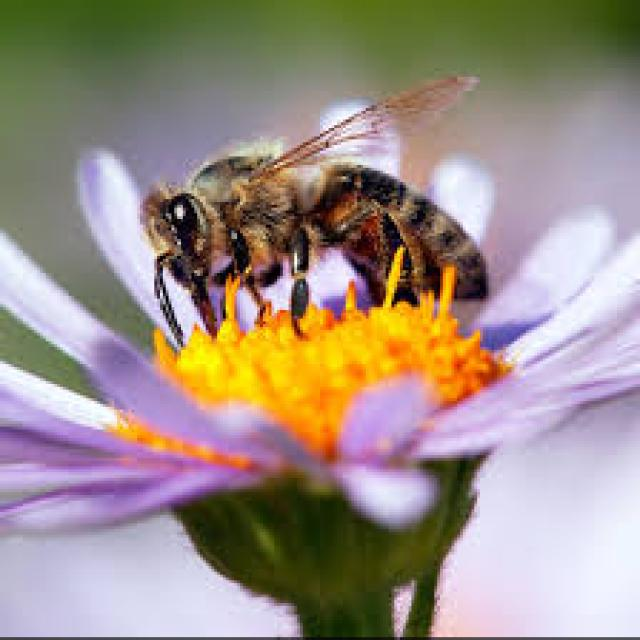Bees: (142, 72, 492, 329)
